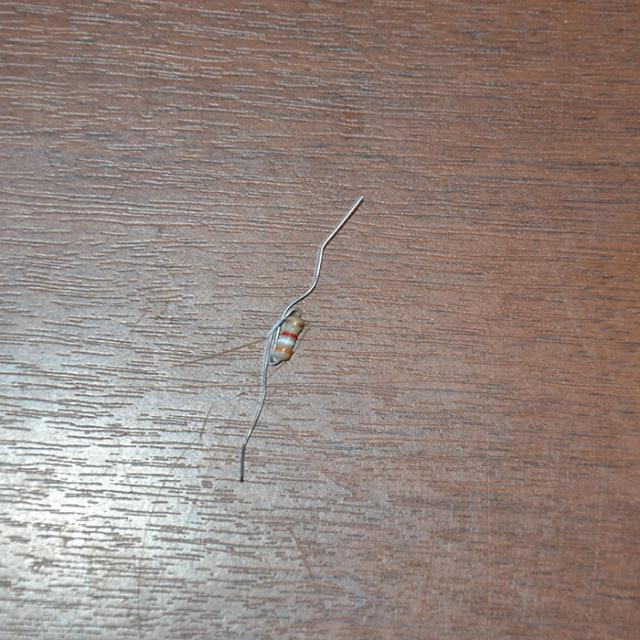gold: (285, 318, 303, 327)
orange: (276, 347, 291, 354)
red: (281, 331, 297, 338)
resistor: (265, 309, 315, 367)
white: (279, 338, 295, 345)
